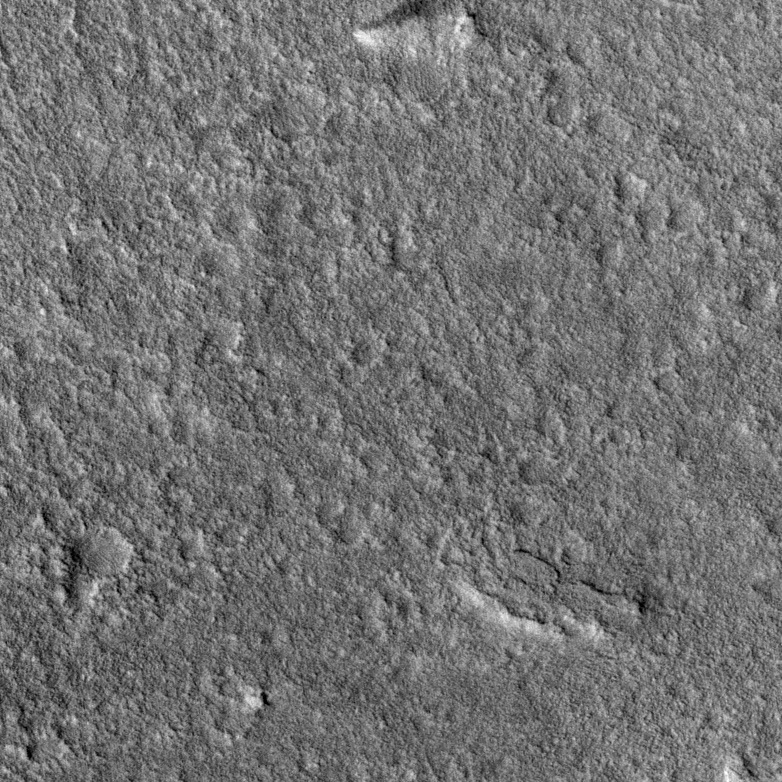dust_devil: (350, 1, 463, 52)
